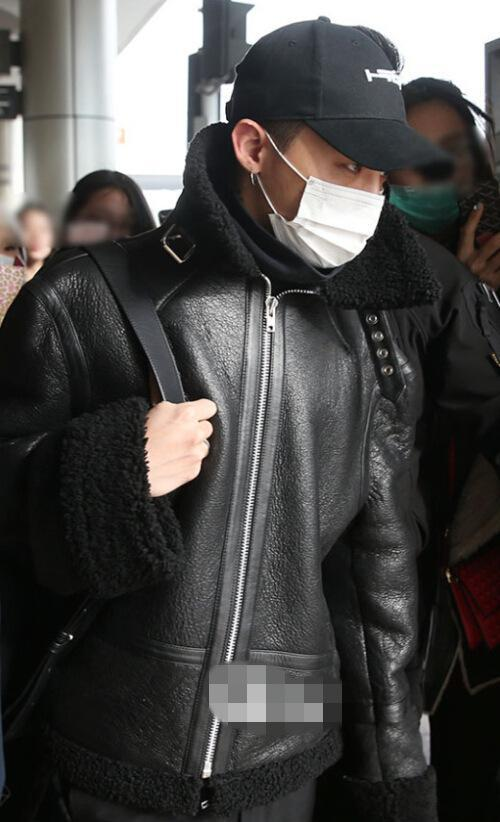OK: (276, 146, 395, 265)
WRONG: (392, 130, 481, 230)
